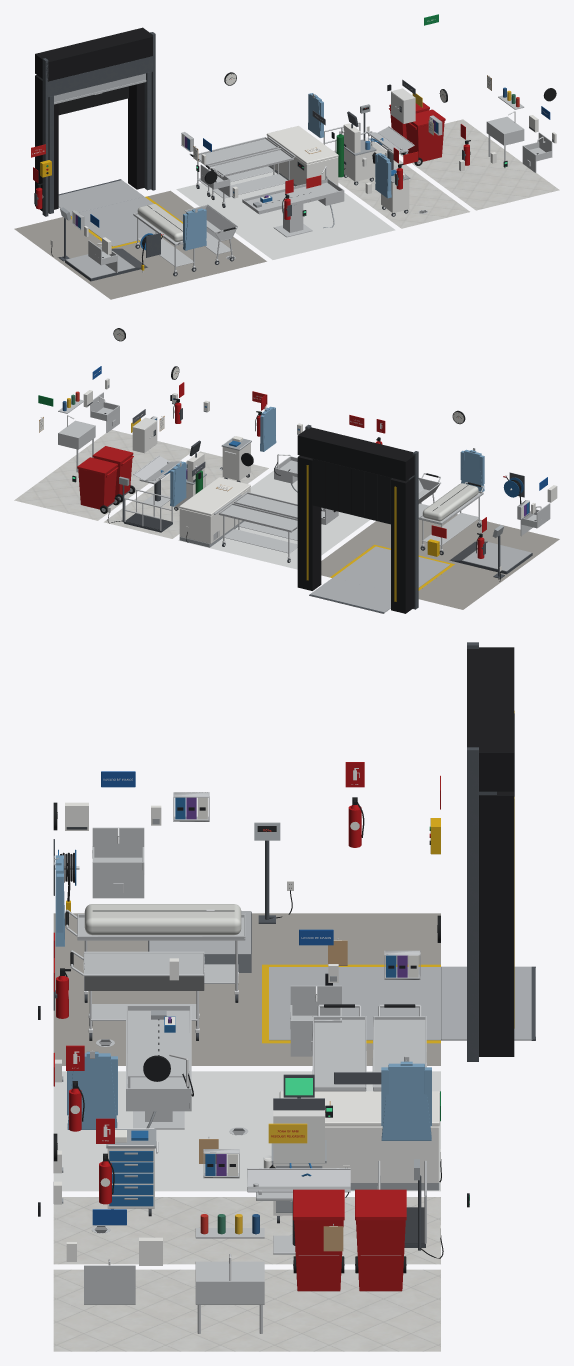
File: 03_n1_cadena_de_modelos_biologicos.glb
3 renders of one model, top to bottom at view 1: azimuth 30°, elevation 25°; view 2: azimuth 150°, elevation 25°; view 3: azimuth 270°, elevation 25°, orthographic. The views are drawn at different scales.
Visible parts, largest first — view 1: sello_muelle, piso · Andén de recepción de modelos, piso · Preparación de cadáveres · auxiliar forense · congela, piso · RPBI y residuos biológicos, rampa_niveladora, cortina_enrollable, camilla_modelos (×2), piso · Recepción e inducción anestésica de cerdos, mesa_necropsia, bata_colgada (×3), maquina_anestesia, lavabo_acero (×2) (+13 smaller); view 2: sello_muelle, piso · Andén de recepción de modelos, piso · RPBI y residuos biológicos, rampa_niveladora, camilla_modelos (×2), piso · Preparación de cadáveres · auxiliar forense · congela, contenedor_rpbi (×2), piso · Recepción e inducción anestésica de cerdos, bata_colgada (×3), bascula_plataforma, lavabo_acero (×2), congelador_cuerpo (+12 smaller); view 3: piso · RPBI y residuos biológicos, piso · Andén de recepción de modelos, sello_muelle, piso · Preparación de cadáveres · auxiliar forense · congela, piso · Recepción e inducción anestésica de cerdos, rampa_niveladora, contenedor_rpbi (×2), lavabo_acero (×2), bata_colgada (×3), mesa_necropsia, camilla_modelos (×2), carro_canal_cerdo (+14 smaller).
Part boxes in pixels (x1=…): sello_muelle: x1=35, y1=27, x2=155, y2=216; piso · Andén de recepción de modelos: x1=14, y1=190, x2=266, y2=299; piso · Preparación de cadáveres · auxiliar forense · congela: x1=176, y1=172, x2=395, y2=259; piso · RPBI y residuos biológicos: x1=399, y1=119, x2=559, y2=210; rampa_niveladora: x1=40, y1=160, x2=182, y2=248; cortina_enrollable: x1=40, y1=56, x2=152, y2=213; camilla_modelos (×2): x1=189, y1=137, x2=293, y2=207; piso · Recepción e inducción anestésica de cerdos: x1=333, y1=141, x2=469, y2=228; mesa_necropsia: x1=242, y1=166, x2=344, y2=237; bata_colgada (×3): x1=183, y1=93, x2=391, y2=250; maquina_anestesia: x1=336, y1=111, x2=376, y2=185; lavabo_acero (×2): x1=84, y1=115, x2=556, y2=272; sello_muelle: x1=297, y1=424, x2=418, y2=613; piso · Andén de recepción de modelos: x1=321, y1=514, x2=559, y2=609; piso · RPBI y residuos biológicos: x1=14, y1=430, x2=190, y2=520; rampa_niveladora: x1=309, y1=539, x2=454, y2=613; camilla_modelos (×2): x1=218, y1=492, x2=323, y2=562; piso · Preparación de cadáveres · auxiliar forense · congela: x1=178, y1=470, x2=370, y2=569; contenedor_rpbi (×2): x1=77, y1=446, x2=135, y2=513; piso · Recepción e inducción anestésica de cerdos: x1=104, y1=451, x2=268, y2=538; bata_colgada (×3): x1=170, y1=406, x2=484, y2=506; bascula_plataforma: x1=449, y1=525, x2=532, y2=578; lavabo_acero (×2): x1=83, y1=378, x2=557, y2=536; congelador_cuerpo: x1=179, y1=487, x2=250, y2=547; piso · RPBI y residuos biológicos: x1=53, y1=1269, x2=440, y2=1351; piso · Andén de recepción de modelos: x1=53, y1=913, x2=440, y2=1065; sello_muelle: x1=467, y1=642, x2=514, y2=1061; piso · Preparación de cadáveres · auxiliar forense · congela: x1=53, y1=1071, x2=440, y2=1191; piso · Recepción e inducción anestésica de cerdos: x1=53, y1=1197, x2=440, y2=1264; rampa_niveladora: x1=262, y1=818, x2=535, y2=1043; contenedor_rpbi (×2): x1=293, y1=1189, x2=406, y2=1291; lavabo_acero (×2): x1=65, y1=802, x2=162, y2=1304; bata_colgada (×3): x1=53, y1=855, x2=431, y2=1140; mesa_necropsia: x1=126, y1=1005, x2=191, y2=1129; camilla_modelos (×2): x1=312, y1=1004, x2=426, y2=1091; carro_canal_cerdo: x1=70, y1=950, x2=204, y2=1040.
Bounding box in the file's own units: 12.06 × 4 × 5.79.
47 materials, 2 textured.
